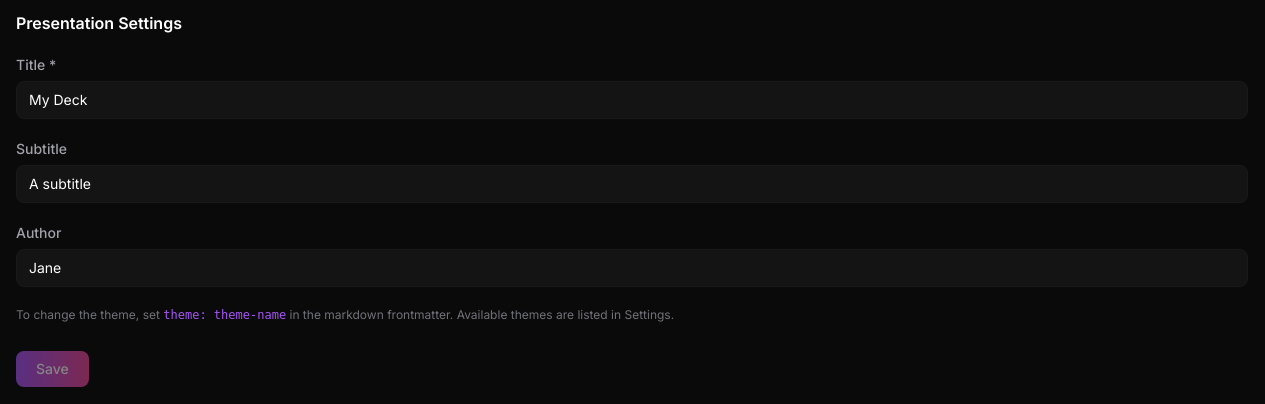
it: MetadataForm › enables save when values change
Replace the text in the field with test id "meta-title" with "Changed Title" at (632, 100), box [16, 81, 1248, 119]
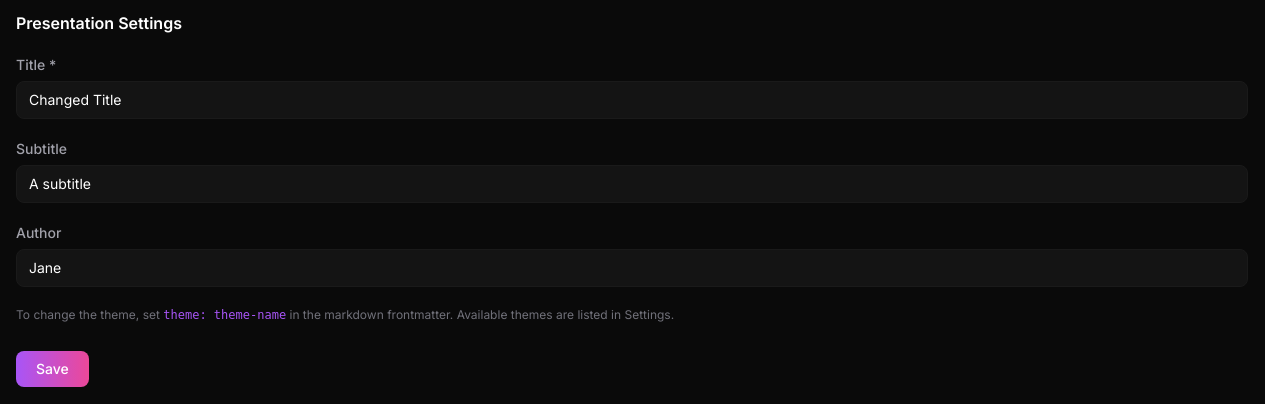
Expected: the button with test id "meta-save-btn" is enabled, [16, 351, 89, 387]
